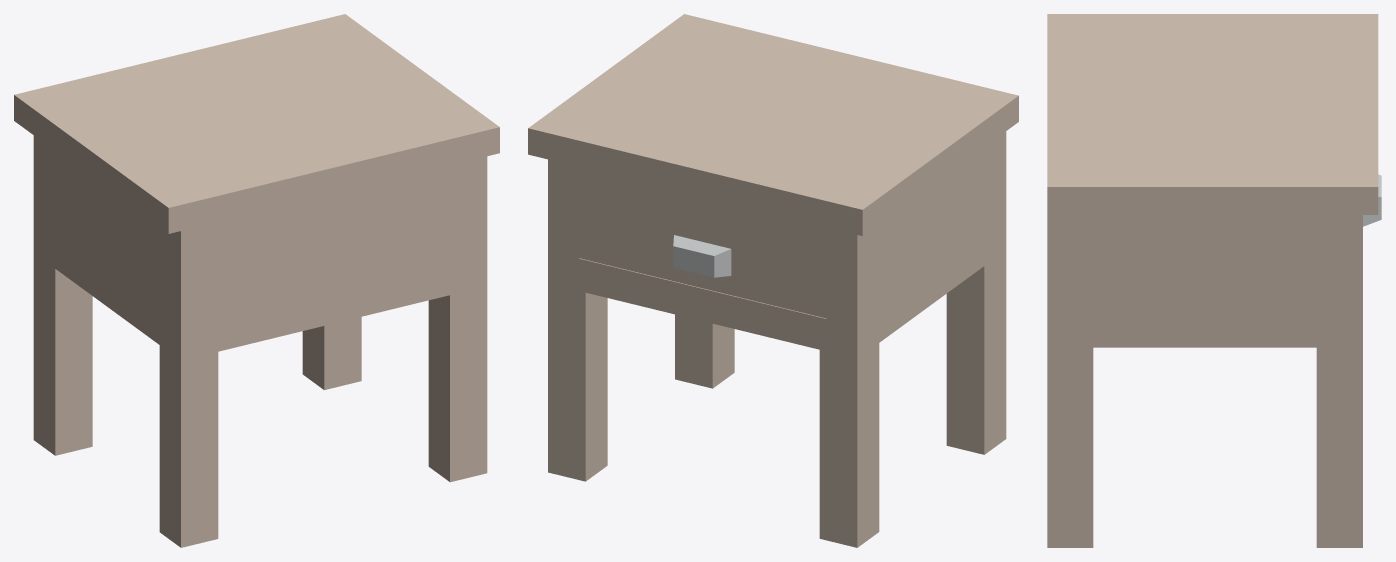
The model's file is furn_cabinetBedDrawerTable.glb.
3 renders of one model, left to right at view 1: azimuth 30°, elevation 25°; view 2: azimuth 150°, elevation 25°; view 3: azimuth 270°, elevation 25°, orthographic. The views are drawn at different scales.
Size of the model in its own units: 0.532 by 0.5264 by 0.4346.
